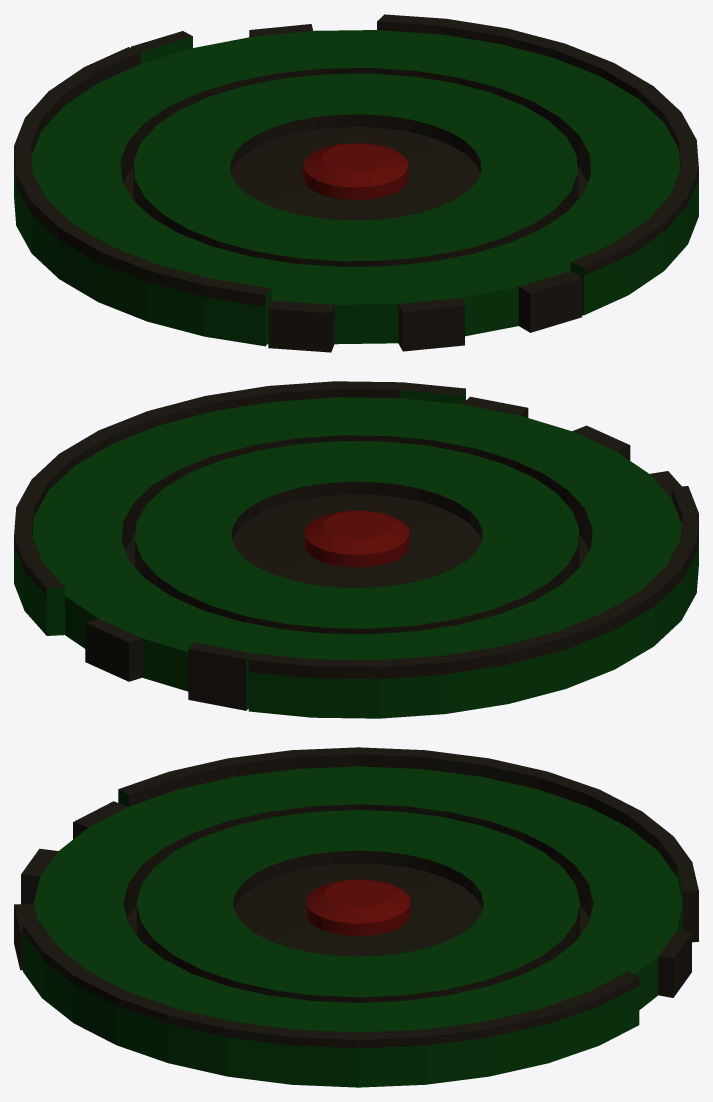
The model's file is MINAFORSHIBA.fbx.
The picture shows the model from 3 angles, top to bottom: view 1: azimuth 30°, elevation 25°; view 2: azimuth 150°, elevation 25°; view 3: azimuth 270°, elevation 25°; orthographic projection.
Parts seen in each view (by area): view 1: Circle.004; view 2: Circle.004; view 3: Circle.004.
Boxes of the visible parts, x1=… form: Circle.004: x1=14, y1=14, x2=698, y2=352; Circle.004: x1=14, y1=381, x2=698, y2=718; Circle.004: x1=14, y1=747, x2=698, y2=1087.
Bounding box in the file's own units: 159 × 13.11 × 159.
